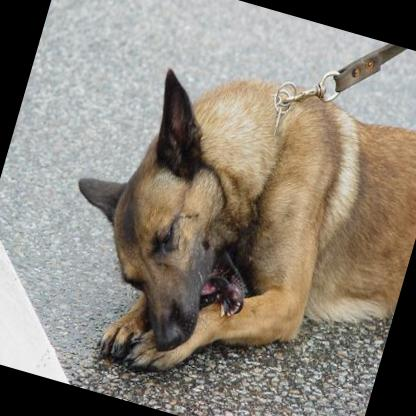malinois: (28, 30, 416, 416)
